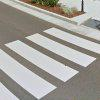Crosswalk: (5, 26, 95, 94)
